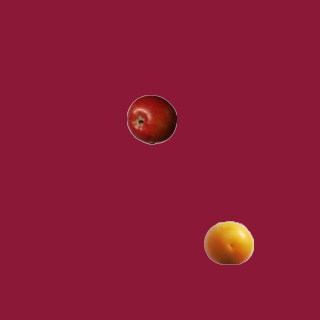Apple Braeburn: (126, 94, 176, 144)
Cherry Wax Yellow: (203, 217, 253, 267)
